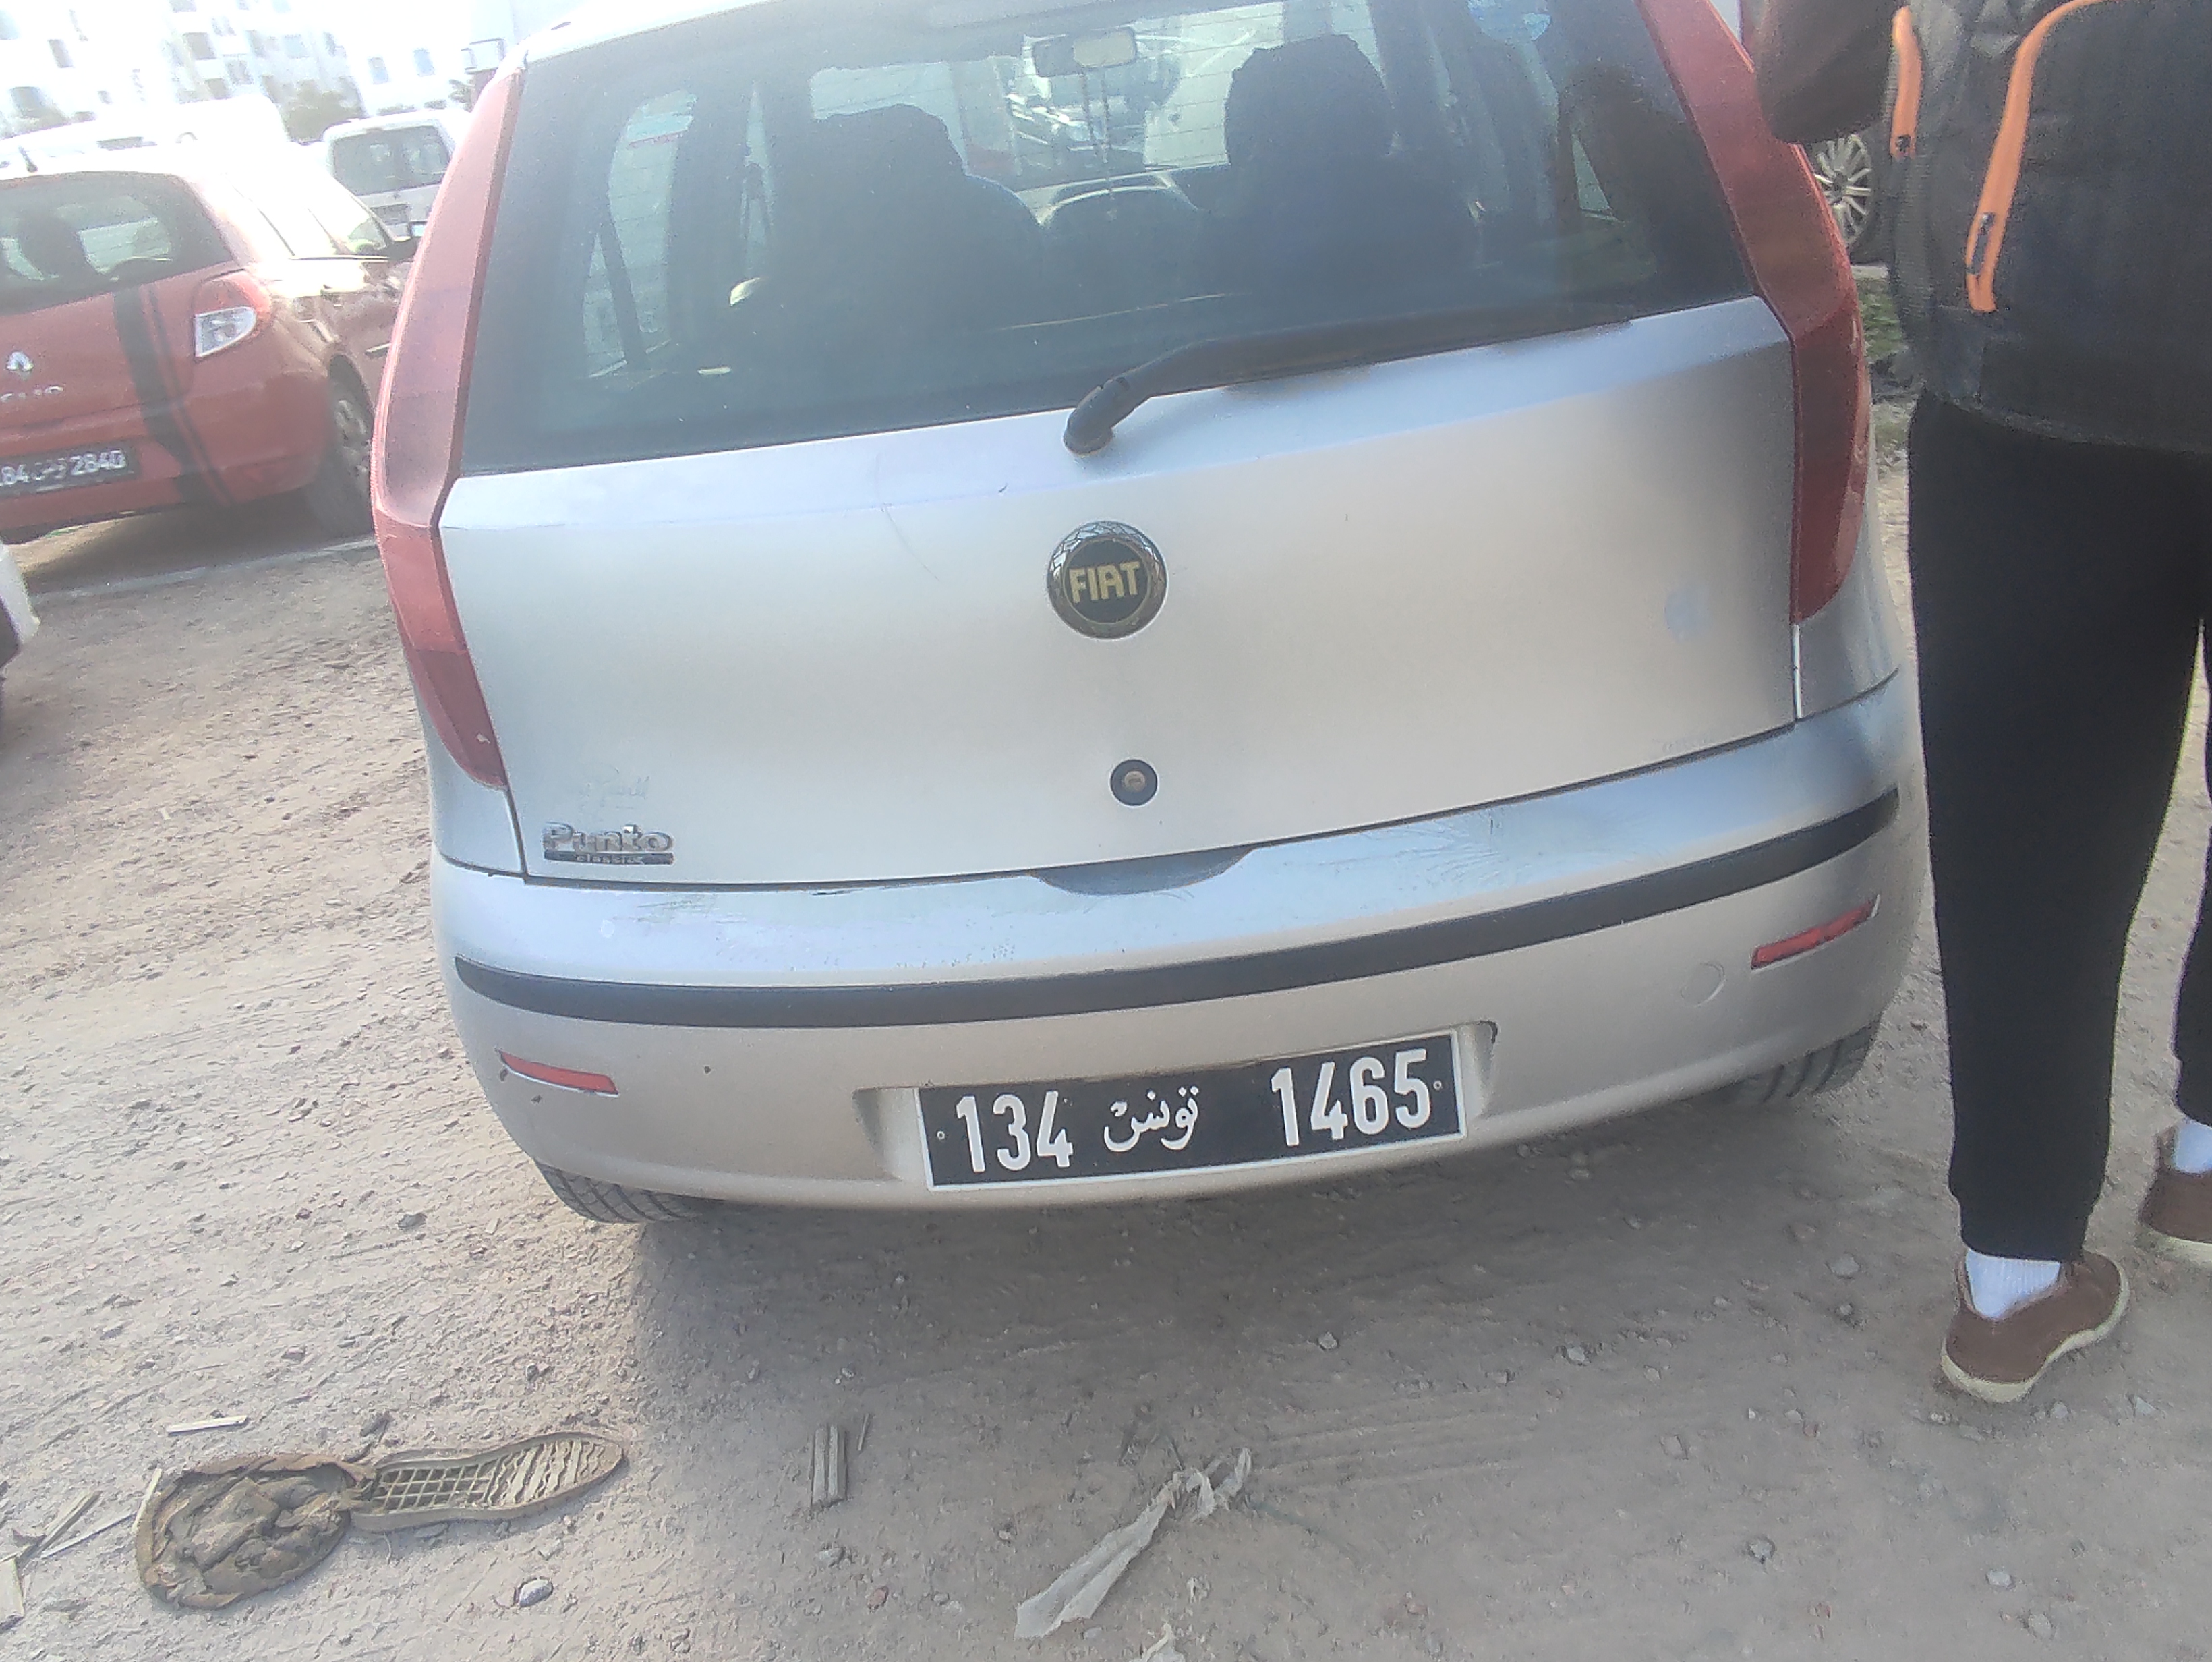bmw: (314, 113, 491, 244)
plate: (19, 96, 306, 272), (10, 529, 54, 697)
renault: (0, 120, 388, 597)
volkswagen: (379, 35, 1969, 1187)
